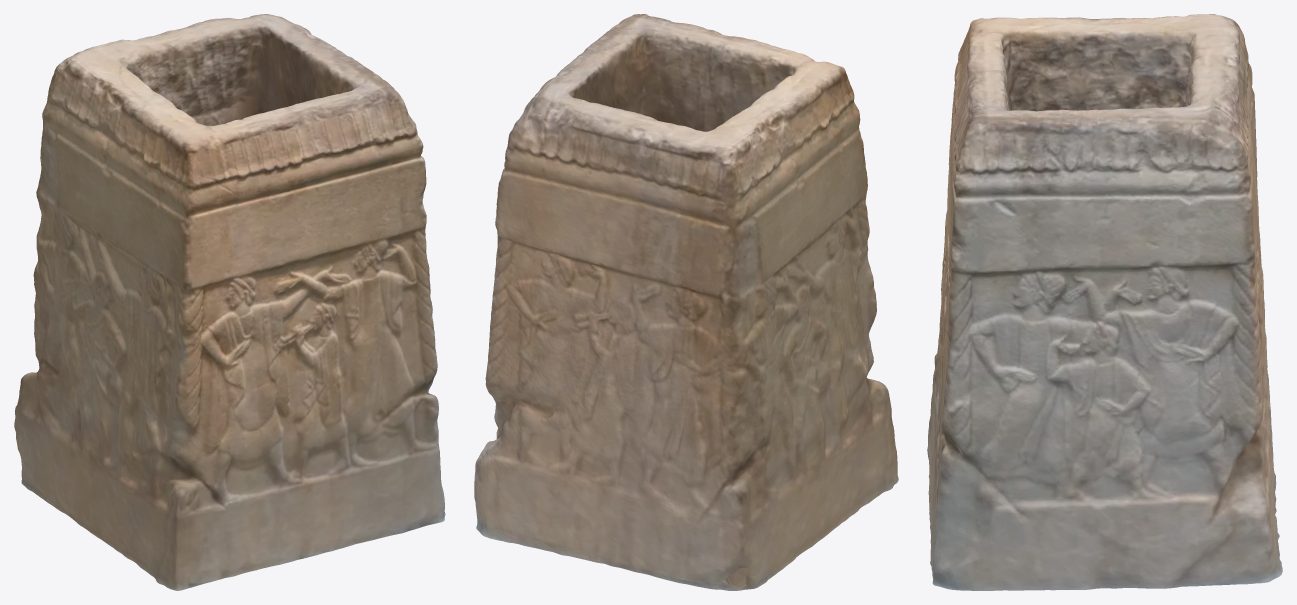
File: preview.glb
3 views of the same model, side by side, from view 1: azimuth 30°, elevation 25°; view 2: azimuth 150°, elevation 25°; view 3: azimuth 270°, elevation 25° (orthographic). The views are drawn at different scales.
Visible parts, largest first — view 1: Object_2; view 2: Object_2; view 3: Object_2.
Boxes of the visible parts, x1,y1,x2,y2 form: Object_2: (14,14,445,590); Object_2: (474,14,898,590); Object_2: (927,14,1282,590).
Bounding box in the file's own units: 2.65 × 3.74 × 2.67.
1 material, 1 textured.
